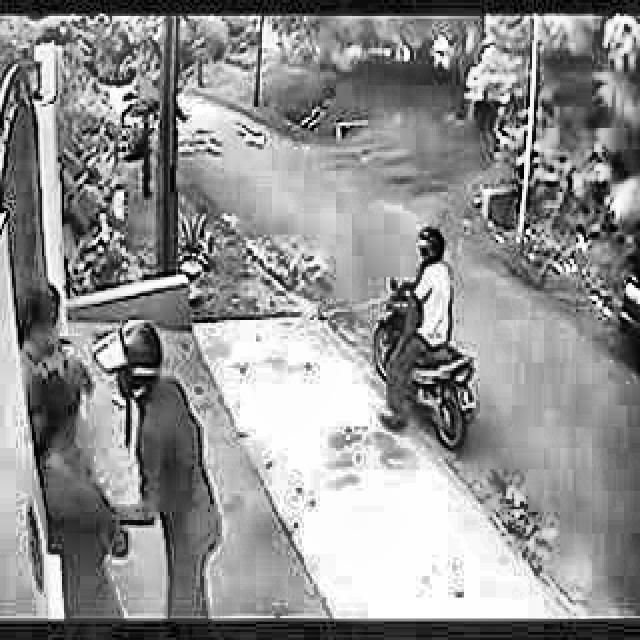robbery: (18, 278, 222, 620)
